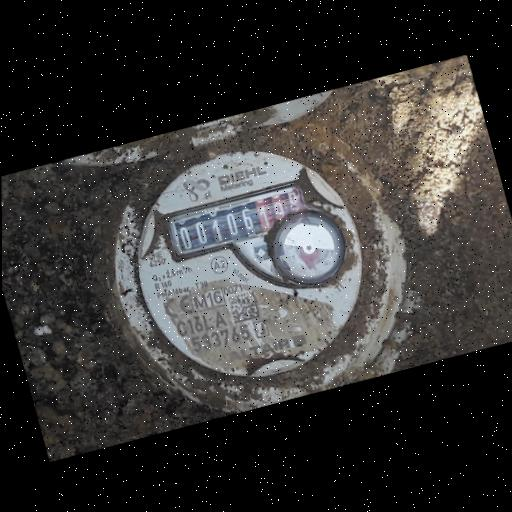0: (174, 218, 196, 252), (221, 206, 243, 240), (189, 214, 210, 247)
1: (253, 197, 276, 232), (205, 209, 227, 243)
6: (238, 201, 258, 235), (286, 189, 302, 212)
9: (268, 192, 290, 223)
border_water_meter_number: (165, 178, 322, 257)
